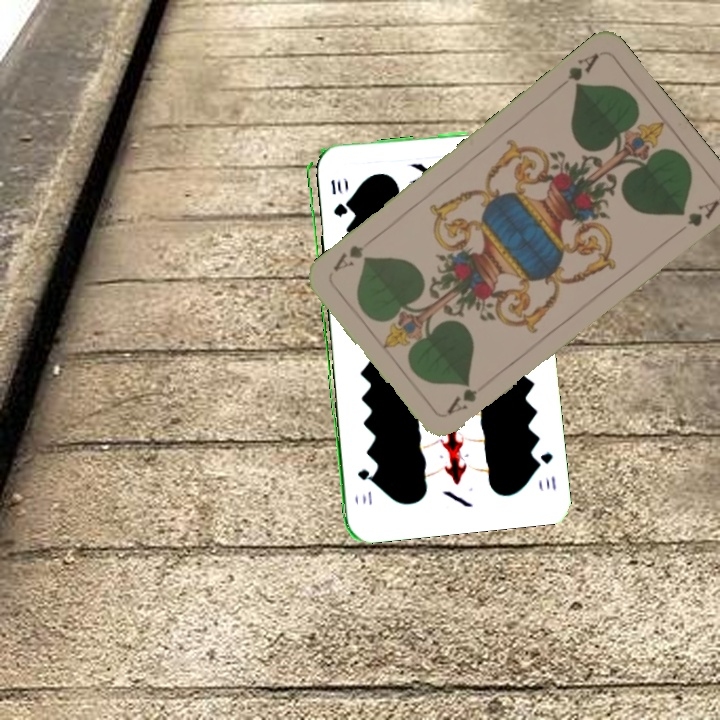G10: (531, 448, 559, 492), (327, 175, 346, 220)
GA: (442, 378, 493, 417), (563, 49, 602, 92)
